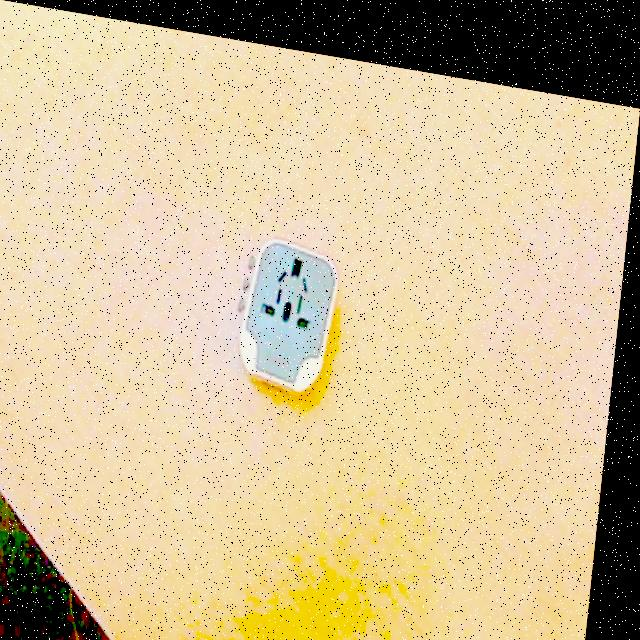adapter: (236, 221, 347, 388)
